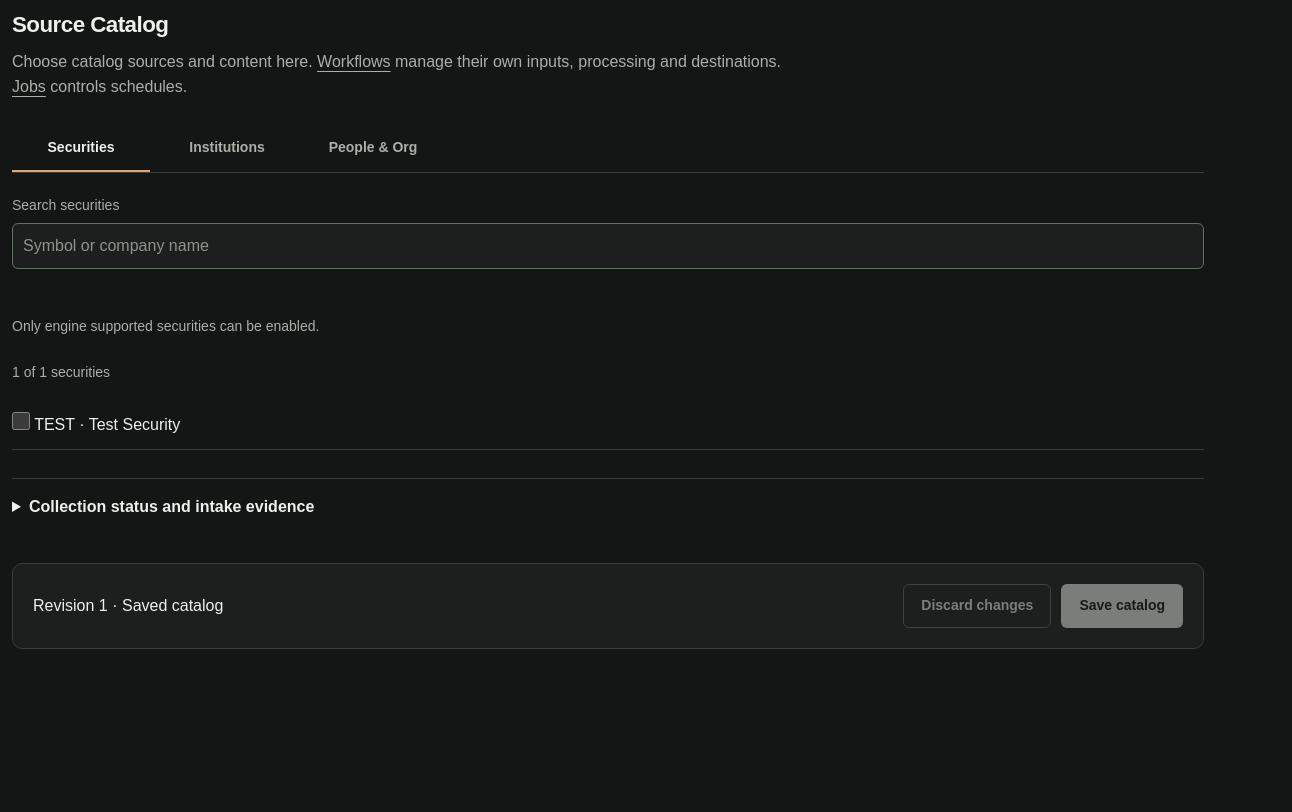
Scenario: SourceCatalogView › filters registered RSS sources without allowing user-created RSS accounts
Expected: the text "Revision 1 · Saved catalog" is shown, [33,593,223,619]
Click the tab "People & Org" at point(373, 148), box [304,124,442,172]
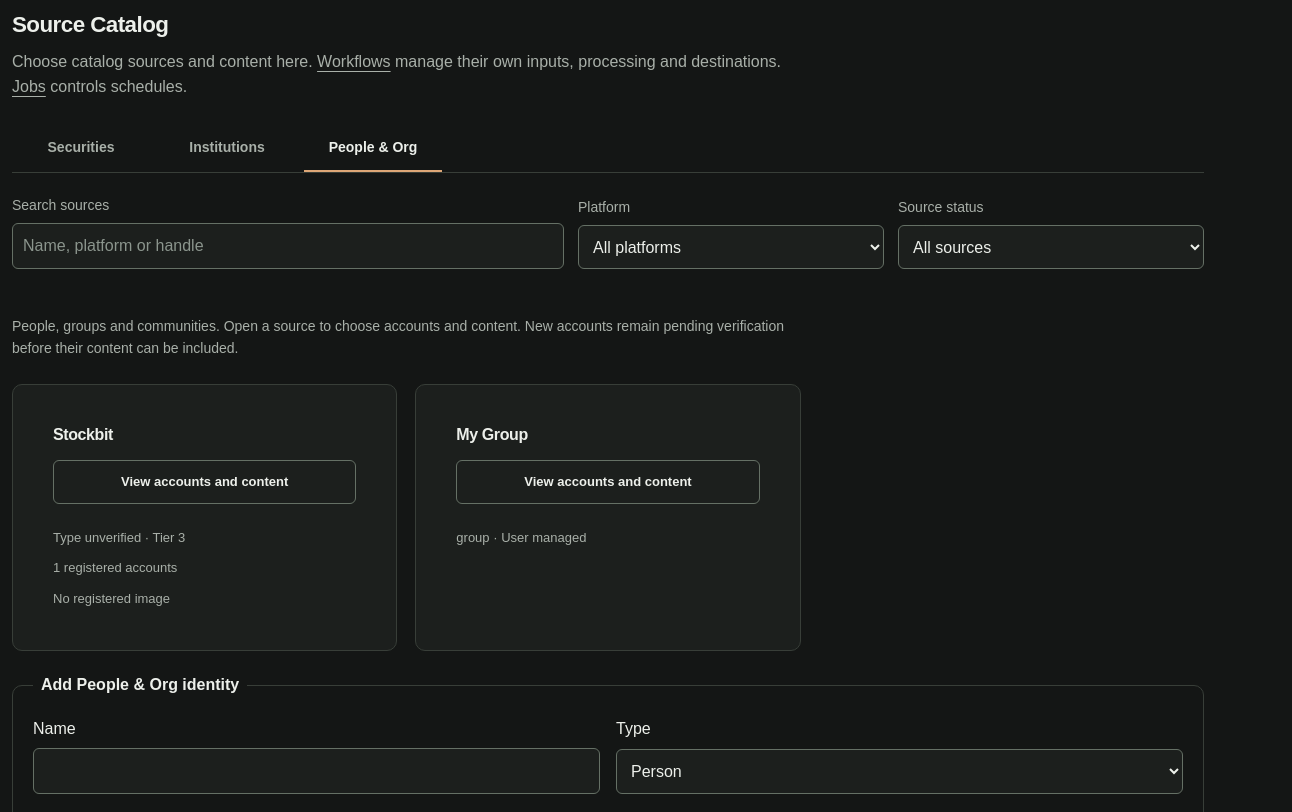
Select "rss" in the dropdown labelled "Platform" at point(731, 247), box [578,225,884,269]
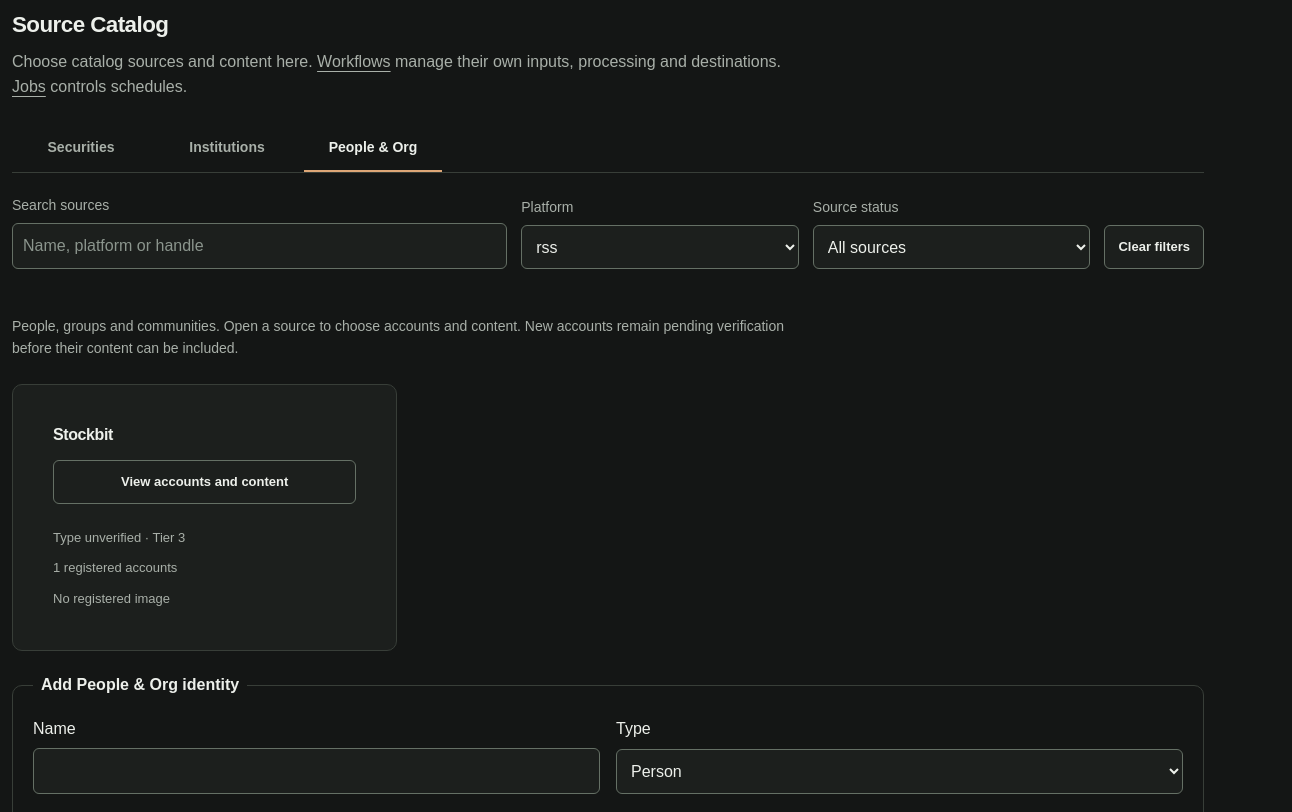
Expected: the heading "Stockbit" is shown, [53,426,113,443]
Expected: the heading "My Group" is gone
Click the button "Clear filters" at point(1154, 247), box [1104,225,1204,269]
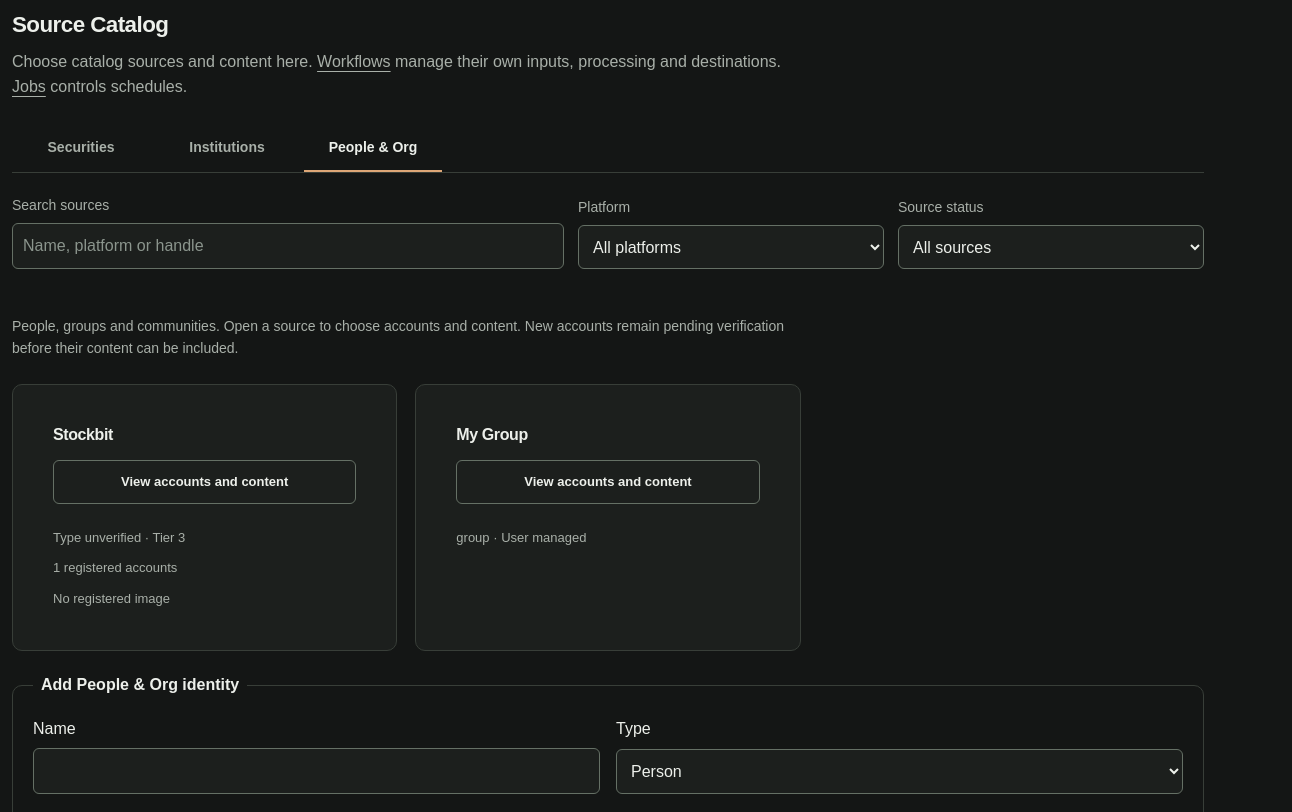
Expected: the heading "My Group" is shown, [456,426,528,443]
